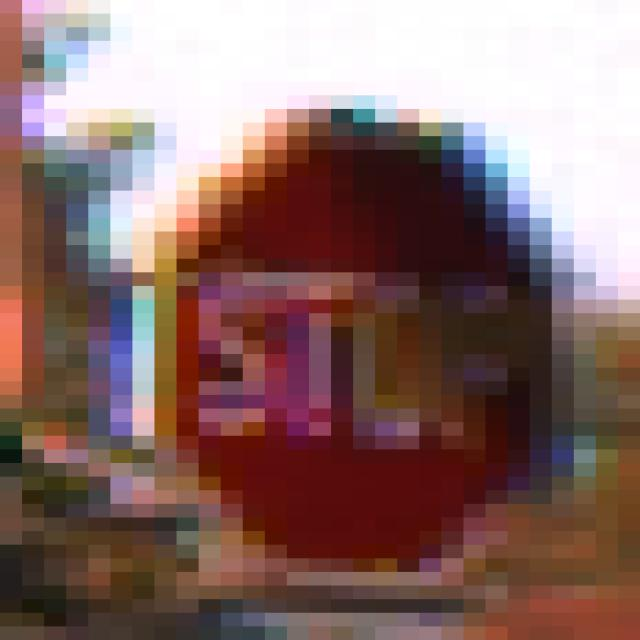STOP: (134, 83, 531, 573)
